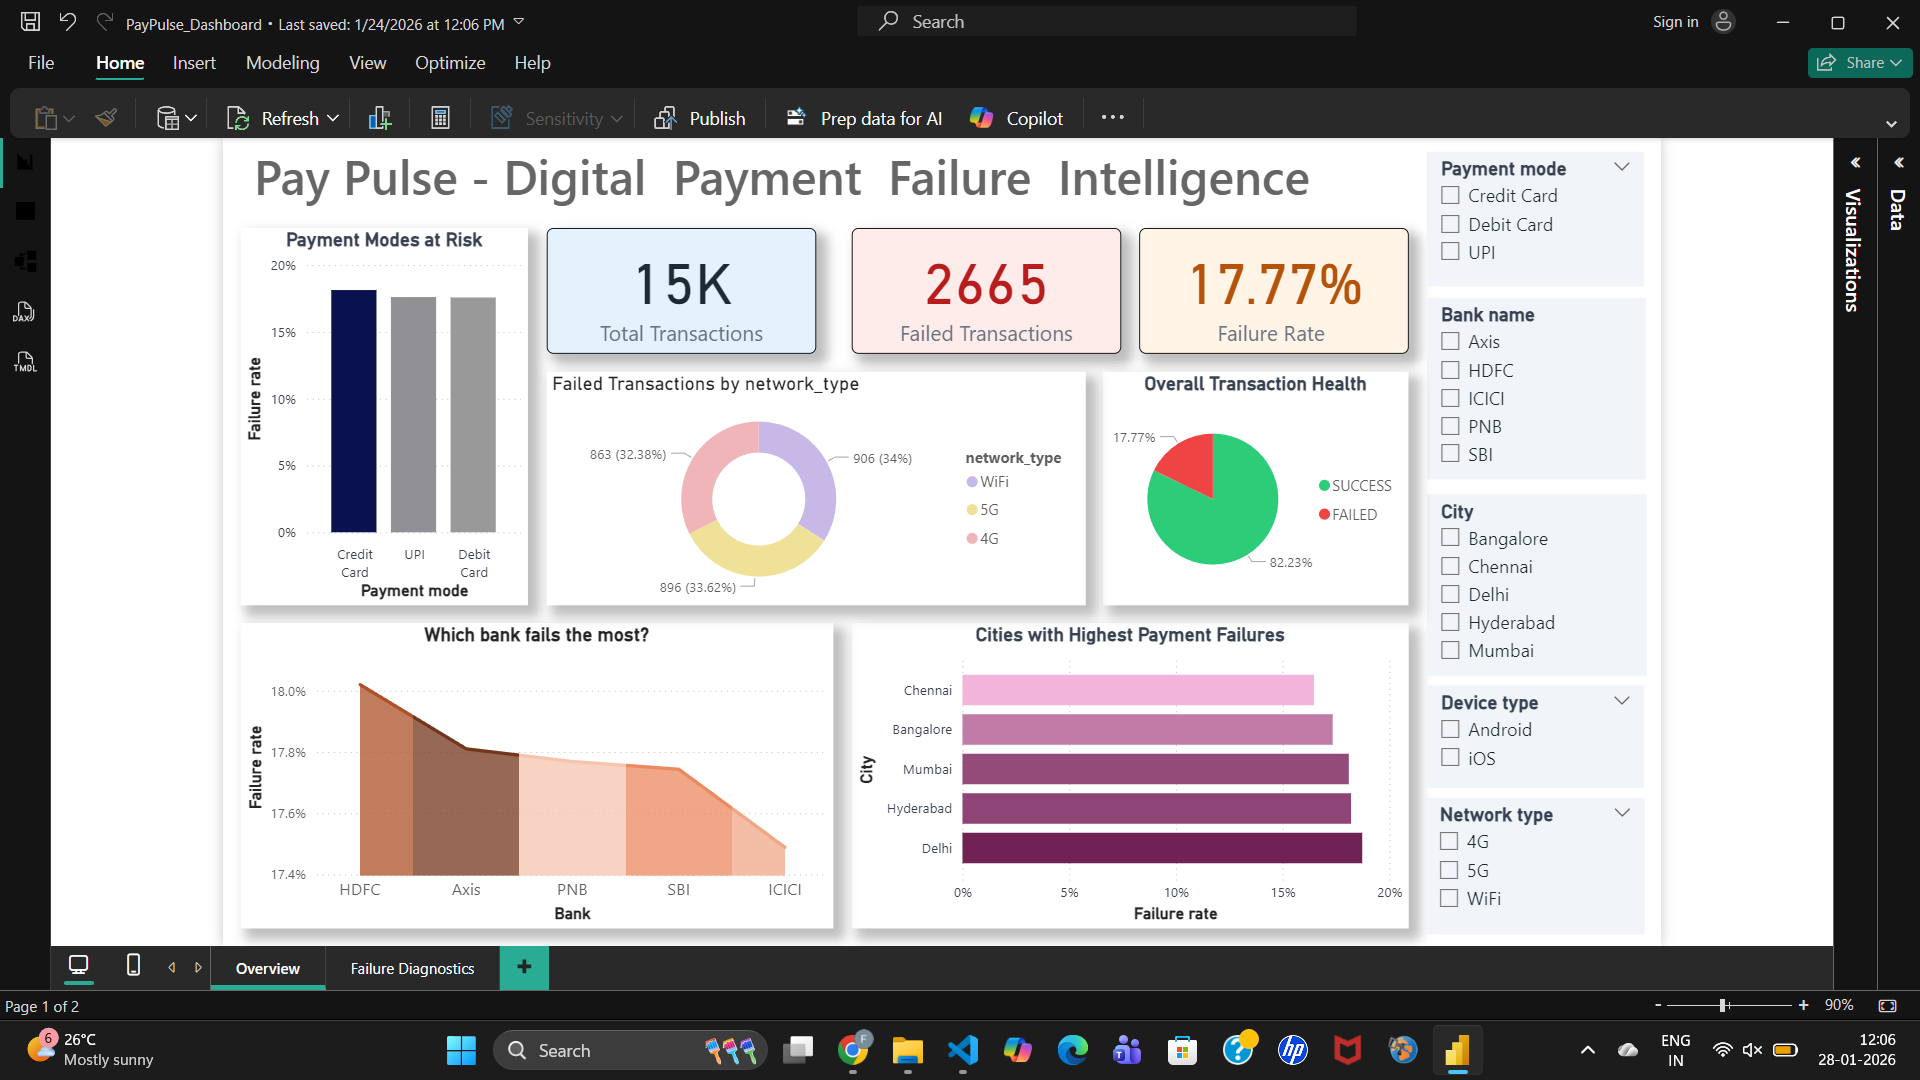

The dashboard page shown, as its layout file describes it:
{"tool":"powerbi","page":{"name":"Overview","canvas":[1280,720],"ordinal":0},"visuals":[{"type":"card","fields":{"Values":["transactions.Total Transactions"]},"box":[288,80,240,112],"z":0},{"type":"card","fields":{"Values":["transactions.Failed Transactions"]},"box":[560,80,240,112],"z":1000},{"type":"card","fields":{"Values":["transactions.Failure Rate %"]},"box":[816,80,240,112],"z":2000},{"type":"lineStackedColumnComboChart","title":"Payment Modes at Risk","fields":{"Category":["transactions.payment_mode"],"Y":["transactions.Failure Rate %"]},"box":[16,80,256,336],"z":3000},{"type":"barChart","title":"Cities with Highest Payment Failures","fields":{"Y":["transactions.Failure Rate %"],"Category":["transactions.city"]},"box":[560,432,496,272],"z":4000},{"type":"slicer","fields":{"Values":["transactions.network_type"]},"box":[1071.2,587.5,195,121.2],"z":5000},{"type":"slicer","fields":{"Values":["transactions.payment_mode"]},"box":[1072.5,12.5,193.8,120],"z":6000},{"type":"slicer","fields":{"Values":["transactions.device_type"]},"box":[1072.5,487.5,193.8,91.2],"z":7000},{"type":"slicer","fields":{"Values":["transactions.city"]},"box":[1072,317.3,195.9,161.4],"z":8000},{"type":"slicer","fields":{"Values":["transactions.bank_name"]},"box":[1072,142.5,194.8,161.4],"z":9000},{"type":"pieChart","title":"Overall Transaction Health","fields":{"Y":["transactions.Total Transactions"],"Category":["transactions.status"]},"box":[784,208,272,208],"z":10000},{"type":"textbox","box":[12.5,0,1186.2,172.5],"z":11000},{"type":"stackedAreaChart","title":"Which bank fails the most?","fields":{"Category":["transactions.bank_name"],"Y":["transactions.Failure Rate %"]},"box":[16,432,528,272],"z":12000},{"type":"donutChart","fields":{"Category":["transactions.network_type"],"Y":["transactions.Failed Transactions"]},"box":[288,208,480,208],"z":13000}]}

Visuals, with their boxes on the page's 1280x720 design canvas (x1, y1, x2, y2). These are canvas units, not pixel positions in the 1920x1080 screenshot, which may show the page scaled, cropped or inside an application window:
card - transactions.Total Transactions: [288, 80, 528, 192]
card - transactions.Failed Transactions: [560, 80, 800, 192]
card - transactions.Failure Rate %: [816, 80, 1056, 192]
"Payment Modes at Risk" lineStackedColumnComboChart: [16, 80, 272, 416]
"Cities with Highest Payment Failures" barChart: [560, 432, 1056, 704]
slicer - transactions.network_type: [1071, 588, 1266, 709]
slicer - transactions.payment_mode: [1072, 12, 1266, 132]
slicer - transactions.device_type: [1072, 488, 1266, 579]
slicer - transactions.city: [1072, 317, 1268, 479]
slicer - transactions.bank_name: [1072, 142, 1267, 304]
"Overall Transaction Health" pieChart: [784, 208, 1056, 416]
textbox: [12, 0, 1199, 172]
"Which bank fails the most?" stackedAreaChart: [16, 432, 544, 704]
donutChart - transactions.network_type x transactions.Failed Transactions: [288, 208, 768, 416]
